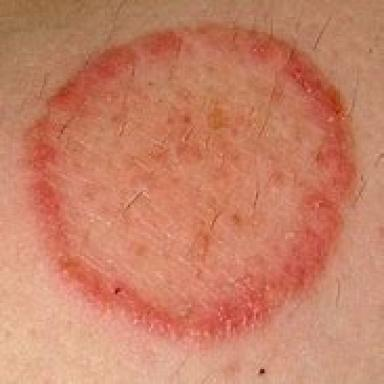Tinea-Corporis: (34, 24, 353, 338)
